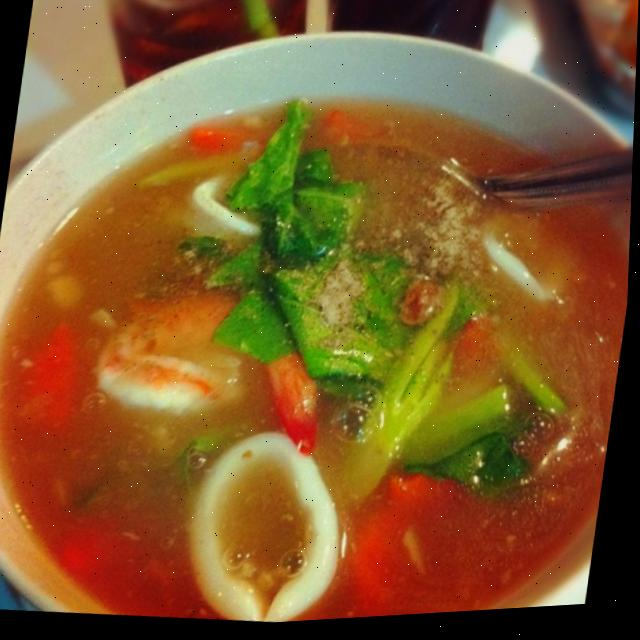面条主食: (0, 11, 639, 640)
